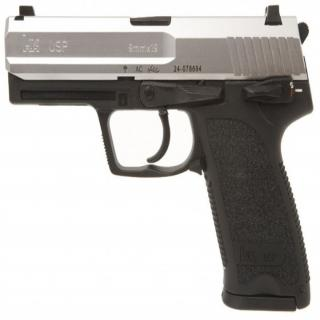gun: (0, 0, 315, 314)
